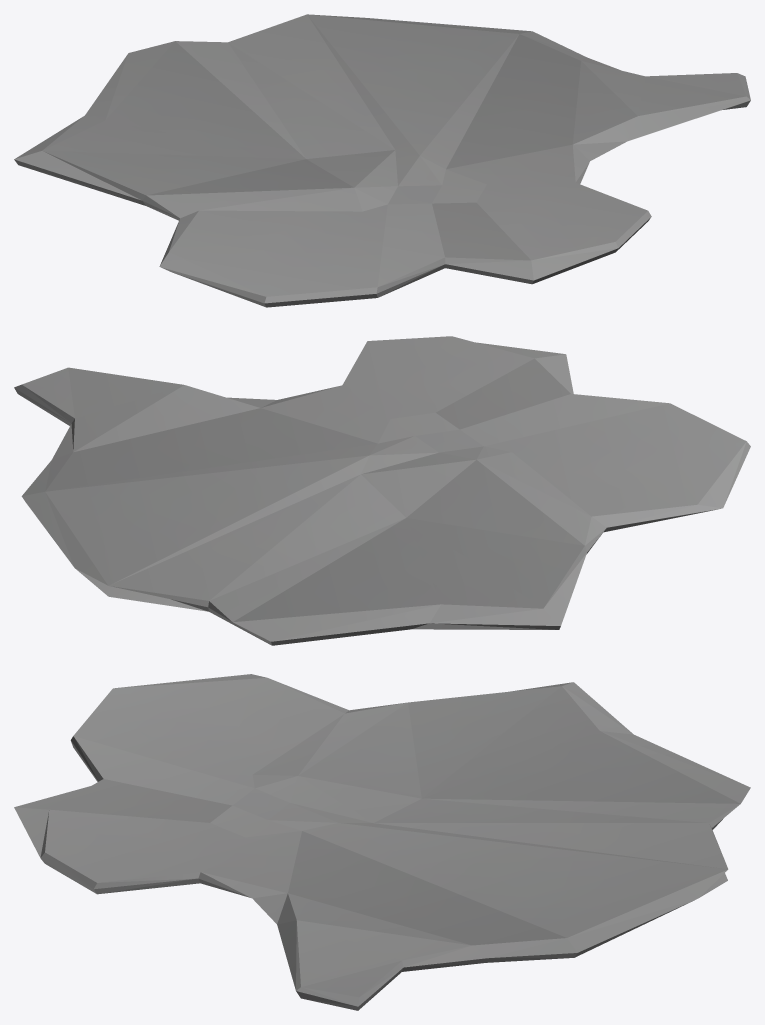
File: dirt_gray.obj
The picture shows the model from 3 angles, top to bottom: view 1: azimuth 30°, elevation 25°; view 2: azimuth 150°, elevation 25°; view 3: azimuth 270°, elevation 25°; orthographic projection. The views are drawn at different scales.
Visible parts, largest first — view 1: dirt_gray_Mesh; view 2: dirt_gray_Mesh; view 3: dirt_gray_Mesh.
Part boxes in pixels (<box>): dirt_gray_Mesh: <box>14,14,750,307</box>; dirt_gray_Mesh: <box>14,336,750,645</box>; dirt_gray_Mesh: <box>14,674,750,1010</box>.
Size of the model in its own units: 2.64 by 0.1027 by 2.49.
